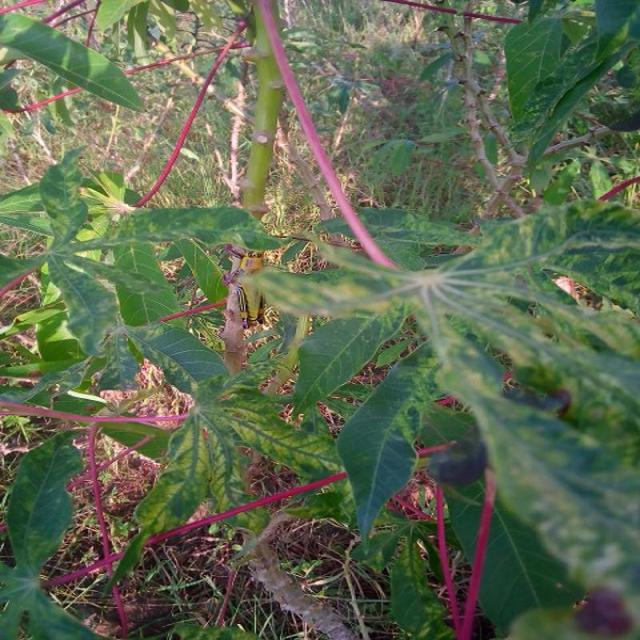cassava leaf: (1, 11, 145, 112)
